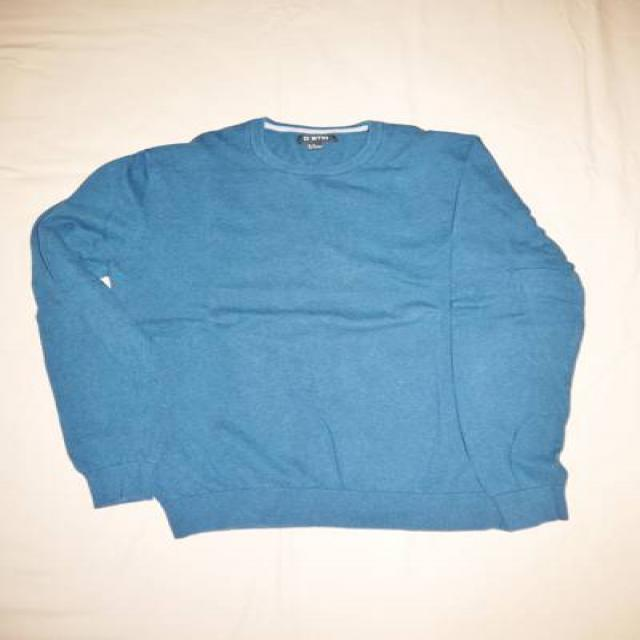Clothes -Biodegradable-: (26, 113, 589, 540)
